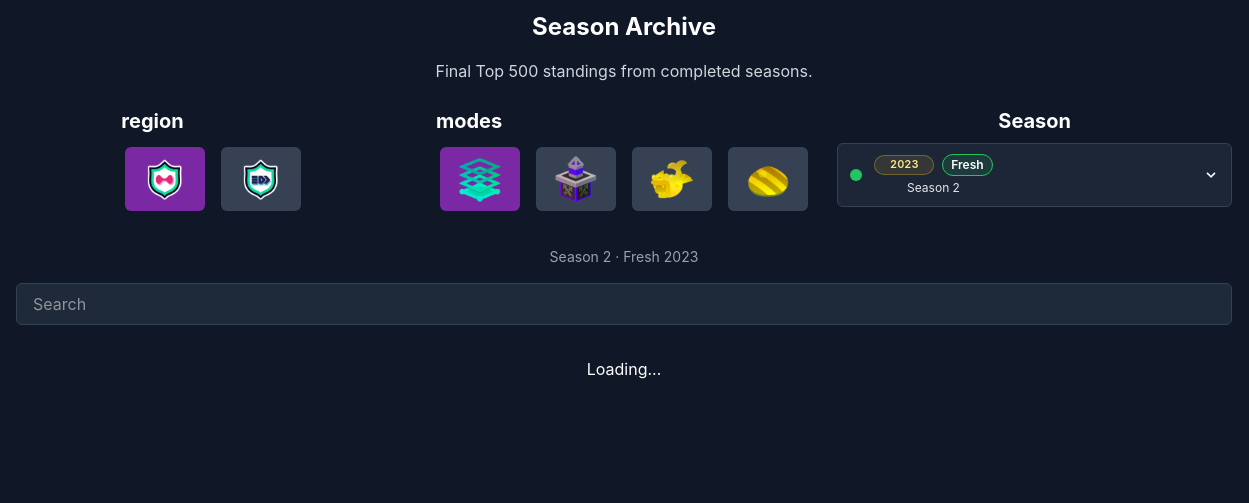
it: LegacyLeaderboards › shows fallback season options while the initial request is still loading
Click the button "2023 Fresh Season 2".
click(904, 165)  # box 837,143 -> 1232,207
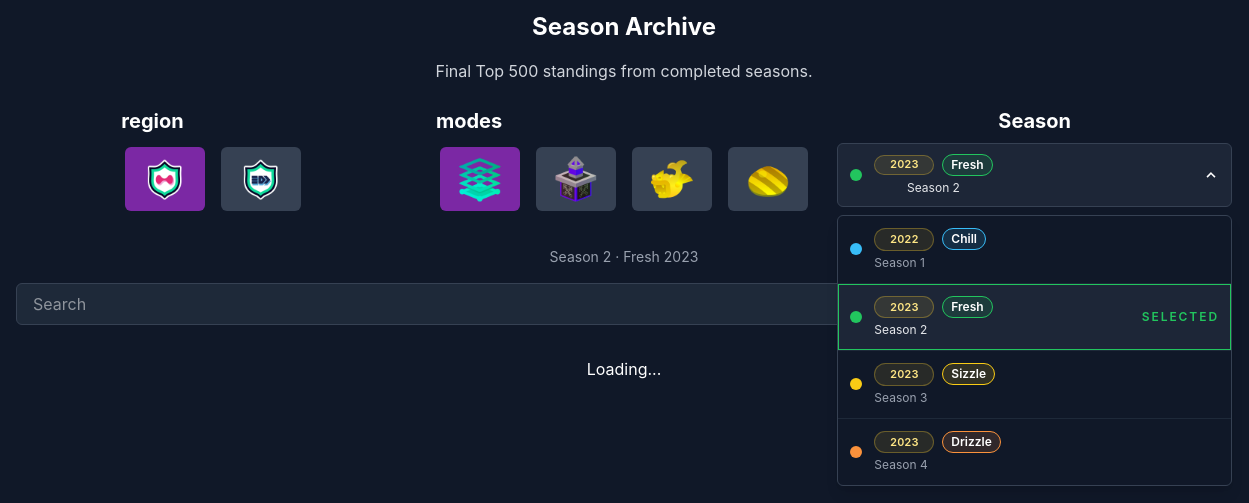
Expected: the option "2022 Chill Season 1" is shown, 838,216 -> 1231,284
